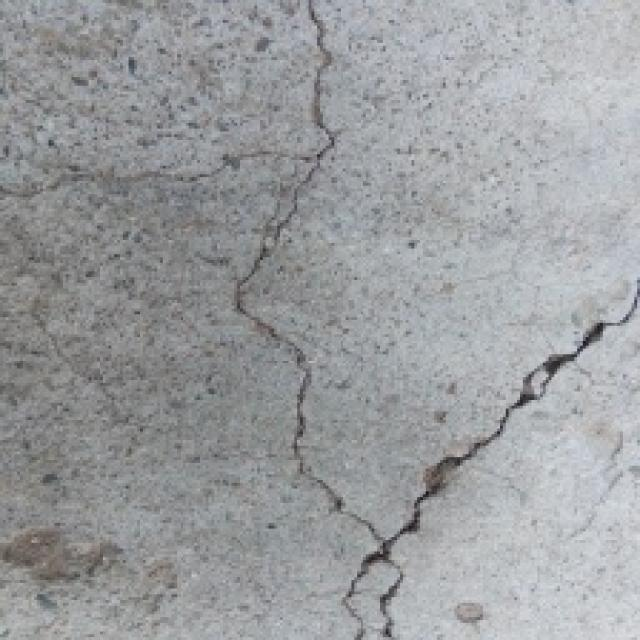crack: (226, 0, 430, 640), (346, 244, 640, 640)
